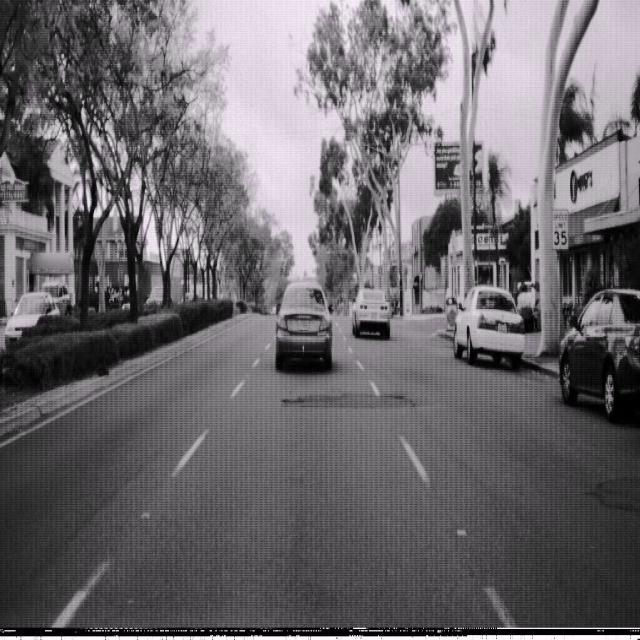speedLimit35: (551, 207, 569, 249)
